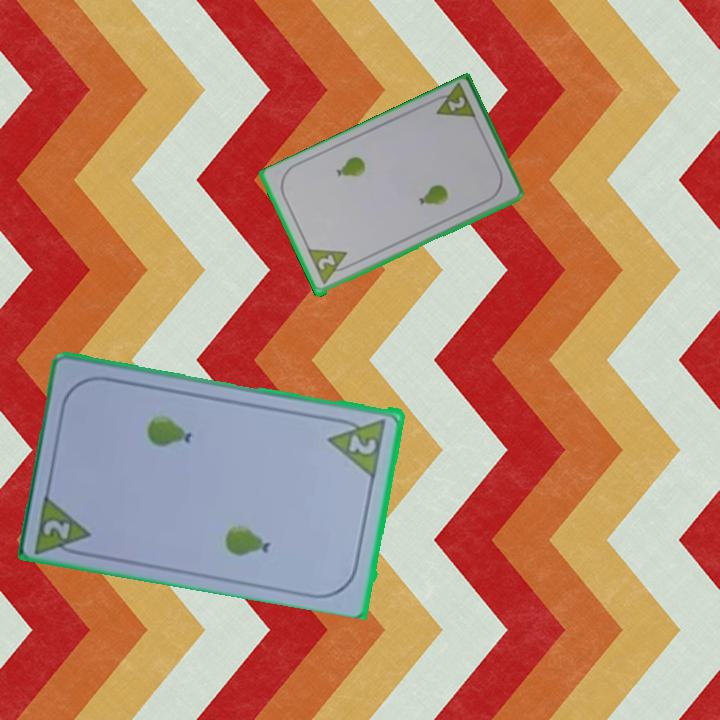2p: (31, 489, 95, 559), (325, 413, 389, 478), (314, 251, 338, 274), (444, 93, 468, 115)
